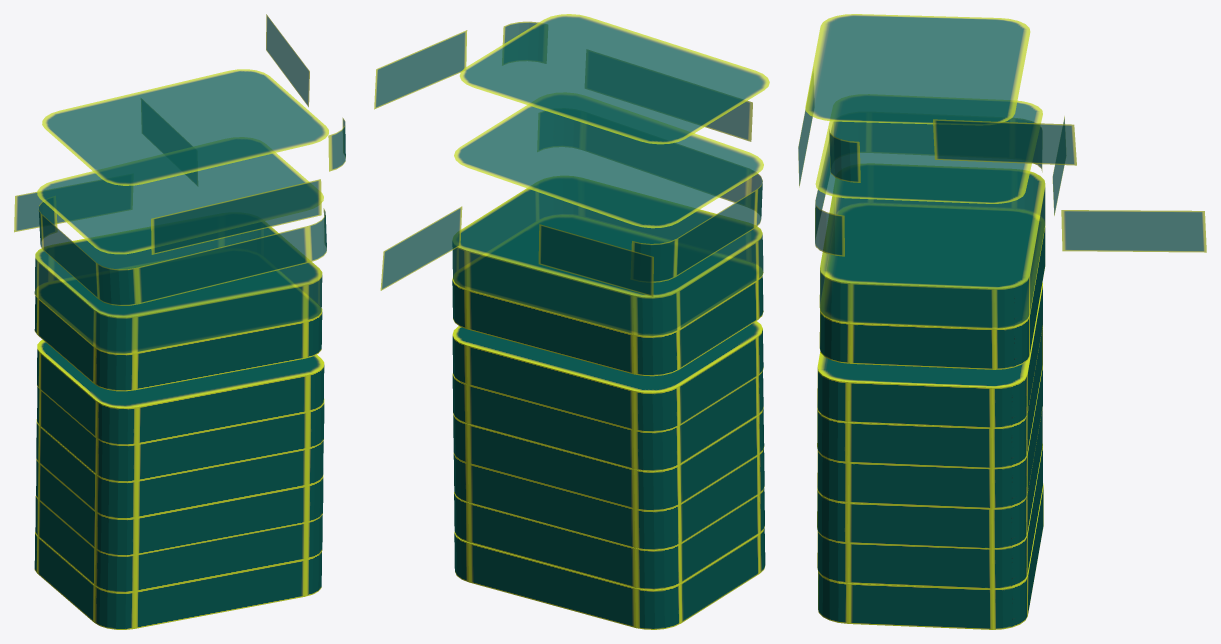
File: portfoliobackground.gltf
The picture shows the model from 3 angles, left to right: view 1: azimuth 30°, elevation 25°; view 2: azimuth 150°, elevation 25°; view 3: azimuth 270°, elevation 25°; orthographic projection. The views are drawn at different scales.
Parts seen in each view (by area): view 1: stack2, stack1-1, stack1-2, cover1, cover2, curverside, leftfloat, float3, Smallside, float2, Corner; view 2: stack2, stack1-1, stack1-2, cover2, cover1, curverside, leftfloat, float3, Smallside, float2, Corner; view 3: stack2, stack1-1, stack1-2, cover1, cover2, float2, Smallside, curverside, Corner, leftfloat, float3.
Boxes of the visible parts, left/top/right/bottom form: stack2: left=34, top=339, right=324, bottom=629; stack1-1: left=34, top=221, right=322, bottom=354; stack1-2: left=34, top=262, right=322, bottom=391; cover1: left=42, top=69, right=328, bottom=185; cover2: left=37, top=137, right=323, bottom=254; curverside: left=38, top=196, right=326, bottom=305; leftfloat: left=151, top=179, right=321, bottom=254; float3: left=14, top=180, right=132, bottom=232; Smallside: left=266, top=14, right=309, bottom=107; float2: left=141, top=99, right=197, bottom=185; Corner: left=328, top=117, right=345, bottom=171; stack2: left=452, top=321, right=765, bottom=629; stack1-1: left=452, top=176, right=763, bottom=336; stack1-2: left=452, top=215, right=763, bottom=376; cover2: left=454, top=93, right=763, bottom=228; cover1: left=459, top=14, right=769, bottom=144; curverside: left=537, top=111, right=762, bottom=282; leftfloat: left=585, top=50, right=752, bottom=141; float3: left=538, top=224, right=653, bottom=296; Smallside: left=374, top=30, right=467, bottom=109; float2: left=380, top=206, right=462, bottom=290; Corner: left=502, top=21, right=547, bottom=65; stack2: left=817, top=282, right=1043, bottom=629; stack1-1: left=819, top=163, right=1045, bottom=329; stack1-2: left=819, top=204, right=1045, bottom=369; cover1: left=805, top=14, right=1030, bottom=124; cover2: left=815, top=94, right=1042, bottom=203; float2: left=1061, top=210, right=1206, bottom=252; Smallside: left=933, top=119, right=1076, bottom=165; curverside: left=815, top=118, right=1042, bottom=256; Corner: left=829, top=129, right=860, bottom=182; leftfloat: left=798, top=73, right=813, bottom=187; float3: left=1052, top=116, right=1065, bottom=215.
Size of what is drawn, in the model's own units: 1.47 by 2.53 by 1.78.
2 materials, 2 textured.
